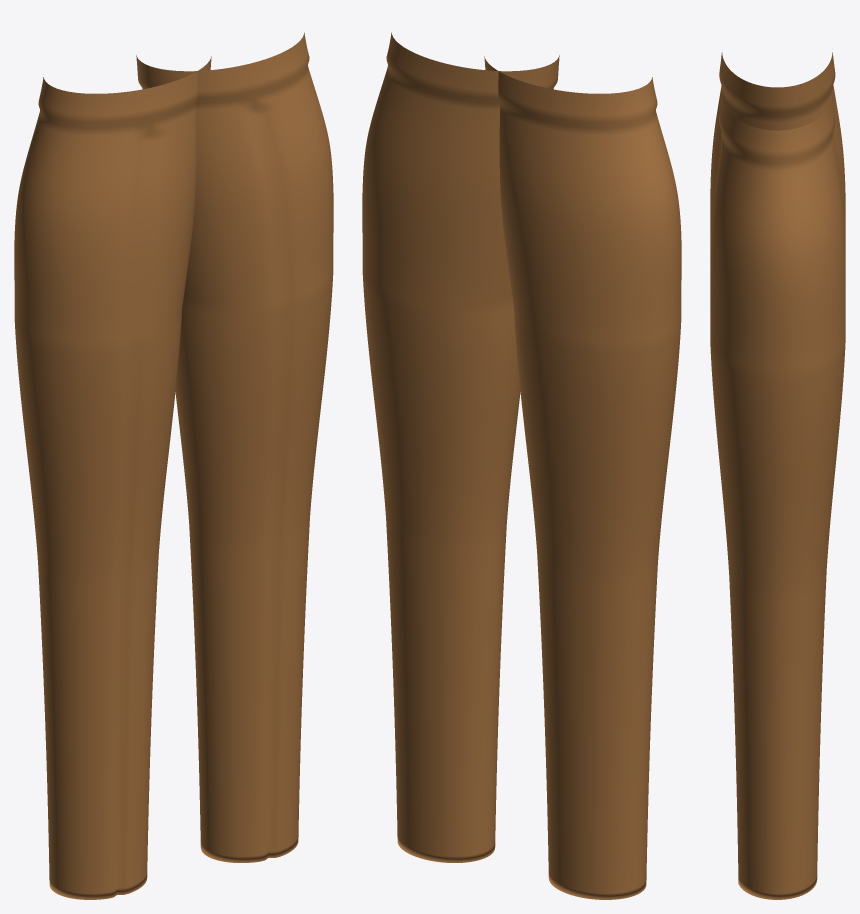
Rendered from calca-cigarrete.glb.
3 renders of one model, left to right at view 1: azimuth 30°, elevation 25°; view 2: azimuth 150°, elevation 25°; view 3: azimuth 270°, elevation 25°, orthographic. The views are drawn at different scales.
Visible parts, largest first — view 1: calca-cigarrete; view 2: calca-cigarrete; view 3: calca-cigarrete.
Part boxes in pixels (bbox=[...]): calca-cigarrete: bbox=[14, 32, 333, 899]; calca-cigarrete: bbox=[362, 32, 681, 899]; calca-cigarrete: bbox=[710, 52, 845, 899].
Size of the model in its own units: 0.3622 by 0.92 by 0.1464.
